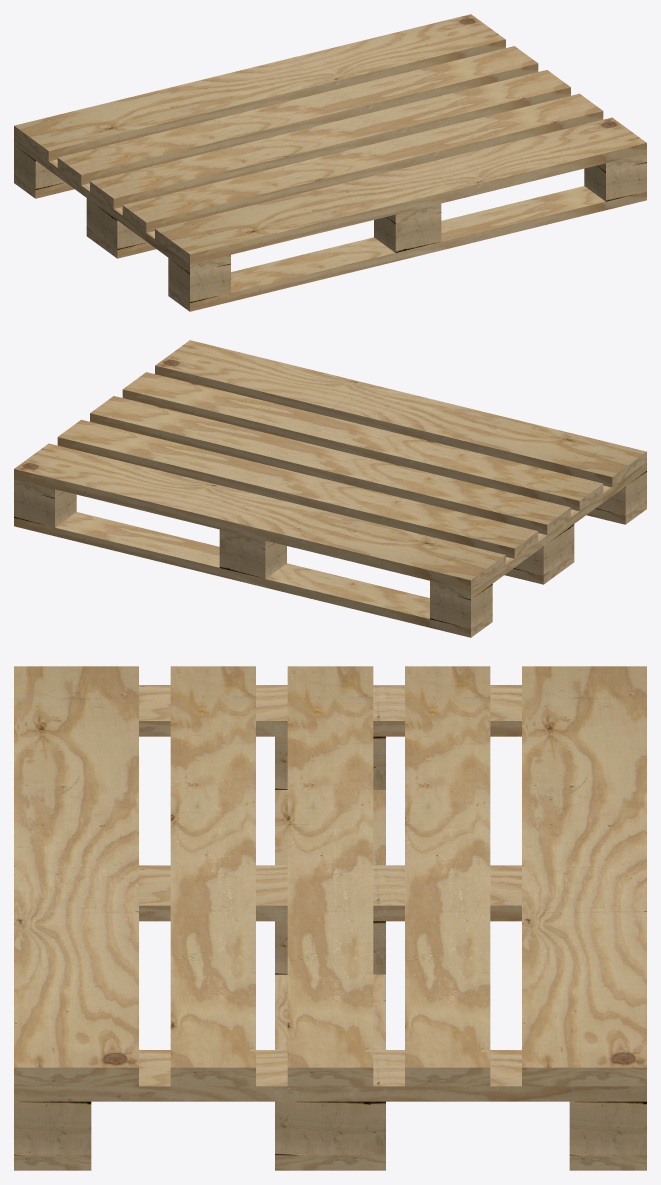
File: mesh_pallet.FBX
3 views of the same model, one above another, from view 1: azimuth 30°, elevation 25°; view 2: azimuth 150°, elevation 25°; view 3: azimuth 270°, elevation 25° (orthographic). The views are drawn at different scales.
Parts seen in each view (by area): view 1: mesh_pallet; view 2: mesh_pallet; view 3: mesh_pallet.
Boxes of the visible parts, bbox=[...] form: mesh_pallet: bbox=[14, 14, 646, 311]; mesh_pallet: bbox=[14, 340, 646, 637]; mesh_pallet: bbox=[14, 666, 646, 1170].
Bounding box in the file's own units: 1.76 × 0.2109 × 1.17.
1 material, 1 textured.
